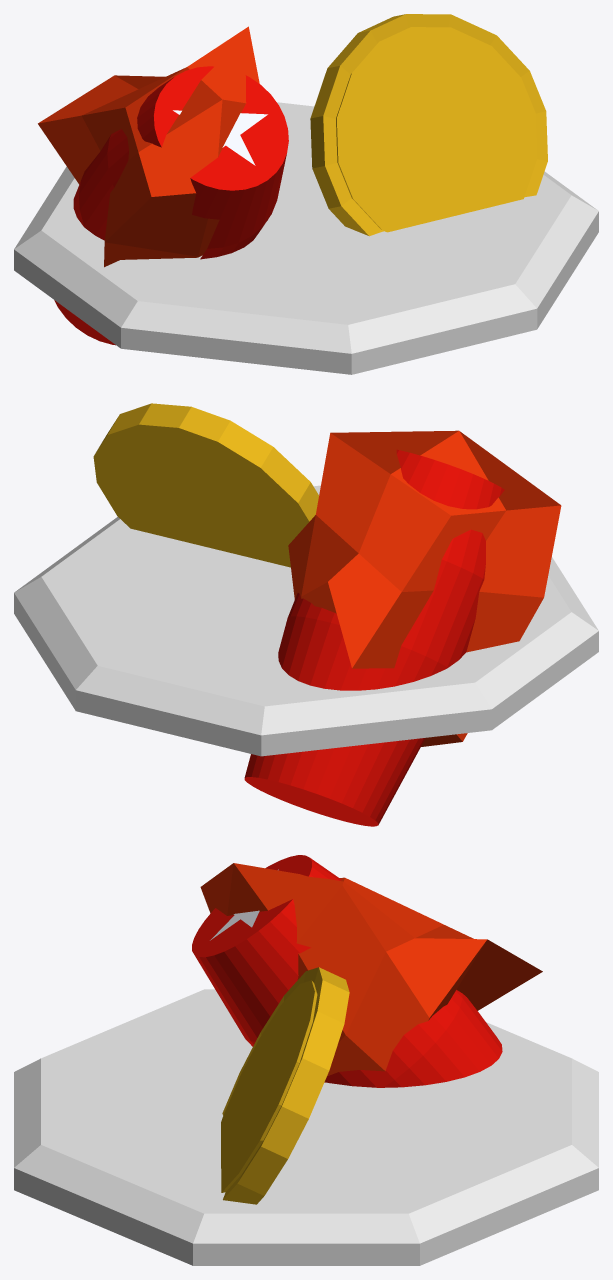
The model's file is PingerDestroyMoney.fbx.
3 views of the same model, one above another, from view 1: azimuth 30°, elevation 25°; view 2: azimuth 150°, elevation 25°; view 3: azimuth 270°, elevation 25° (orthographic). The views are drawn at different scales.
Parts seen in each view (by area): view 1: Cube, Cube.001, Cube.002, Text.001; view 2: Cube, Cube.002, Text.001, Cube.001; view 3: Cube, Cube.002, Text.001, Cube.001.
Boxes of the visible parts, x1,y1,x2,y2 form: Cube: (14,102,598,374); Cube.001: (310,14,547,236); Cube.002: (38,26,267,267); Text.001: (54,66,288,345); Cube: (14,485,598,756); Cube.002: (288,430,561,746); Text.001: (244,449,504,826); Cube.001: (93,403,318,567); Cube: (14,989,598,1265); Cube.002: (200,863,542,1082); Text.001: (192,855,502,1087); Cube.001: (221,967,349,1204).
Size of the model in its own units: 90.03 by 60.94 by 90.03.
